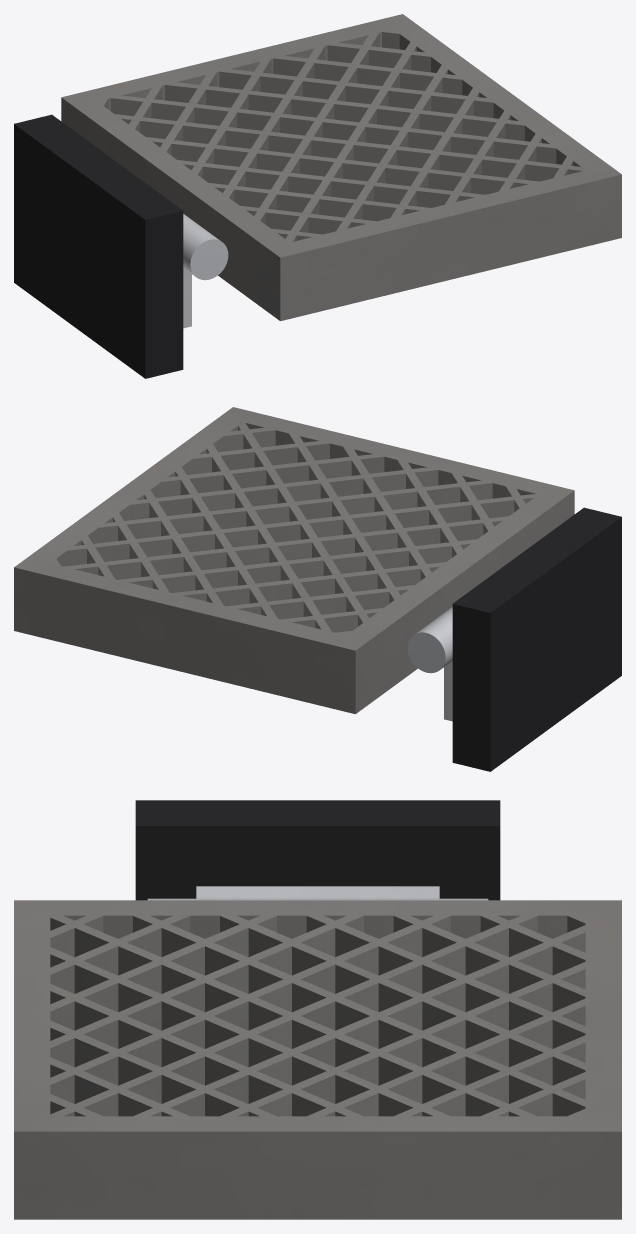
File: stage10_grid_fin_s_deployed.glb
The picture shows the model from 3 angles, top to bottom: view 1: azimuth 30°, elevation 25°; view 2: azimuth 150°, elevation 25°; view 3: azimuth 270°, elevation 25°; orthographic projection. The views are drawn at different scales.
Parts seen in each view (by area): view 1: lattice_panel, mount_plate, hinge; view 2: lattice_panel, mount_plate, hinge; view 3: lattice_panel, mount_plate, hinge.
Boxes of the visible parts, box(x1,y1,x2,y2) form: lattice_panel: box(61, 14, 621, 321); mount_plate: box(14, 114, 183, 378); hinge: box(183, 214, 228, 328); lattice_panel: box(14, 407, 574, 714); mount_plate: box(452, 507, 621, 771); hinge: box(407, 607, 452, 721); lattice_panel: box(14, 900, 621, 1219); mount_plate: box(135, 800, 500, 900); hinge: box(147, 886, 488, 900).
Bounding box in the file's own units: 0.57 × 0.2 × 0.5.
Materials: 3 (2 with a texture image).
